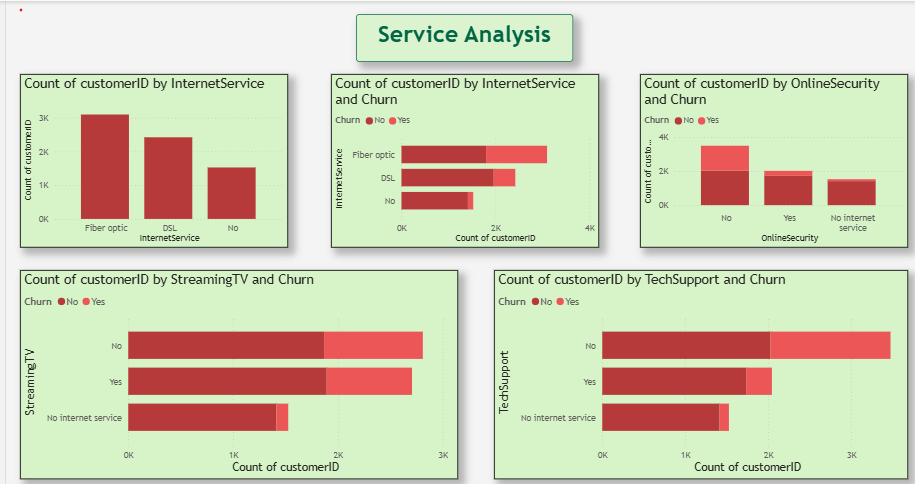

This screenshot's page, from the dashboard's own definition file:
{"tool":"powerbi","page":{"name":"Service Analysis","canvas":[1280,720],"ordinal":2},"visuals":[{"type":"textbox","box":[481.7,17.9,298.7,66.1],"z":0},{"type":"columnChart","fields":{"Y":["CountNonNull(telco.customerID)"],"Category":["telco.InternetService"]},"box":[19.3,100.5,368.9,239.5],"z":1},{"type":"barChart","fields":{"Y":["CountNonNull(telco.customerID)"],"Series":["telco.Churn"],"Category":["telco.InternetService"]},"box":[447.3,100.5,368.9,239.5],"z":2},{"type":"barChart","fields":{"Y":["CountNonNull(telco.customerID)"],"Series":["telco.Churn"],"Category":["telco.TechSupport"]},"box":[671.7,370.2,569.8,287.7],"z":3},{"type":"columnChart","fields":{"Category":["telco.OnlineSecurity"],"Y":["CountNonNull(telco.customerID)"],"Series":["telco.Churn"]},"box":[872.6,100.5,368.9,239.5],"z":4},{"type":"barChart","fields":{"Y":["CountNonNull(telco.customerID)"],"Series":["telco.Churn"],"Category":["telco.StreamingTV"]},"box":[19.3,370.2,602.8,287.7],"z":5}]}

Visuals, with their boxes on the page's 1280x720 design canvas (x1, y1, x2, y2). These are canvas units, not pixel positions in the 915x484 screenshot, which may show the page scaled, cropped or inside an application window:
textbox: crop(482, 18, 780, 84)
columnChart - CountNonNull(telco.customerID) x telco.InternetService: crop(19, 100, 388, 340)
barChart - CountNonNull(telco.customerID) x telco.Churn: crop(447, 100, 816, 340)
barChart - CountNonNull(telco.customerID) x telco.Churn: crop(672, 370, 1242, 658)
columnChart - telco.OnlineSecurity x CountNonNull(telco.customerID): crop(873, 100, 1242, 340)
barChart - CountNonNull(telco.customerID) x telco.Churn: crop(19, 370, 622, 658)
